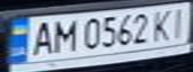0: (78, 15, 103, 51)
2: (130, 10, 154, 45)
5: (100, 14, 121, 48)
6: (115, 11, 136, 47)
A: (24, 19, 57, 56)
I: (166, 3, 193, 39)
K: (148, 7, 178, 42)
M: (48, 16, 81, 53)
